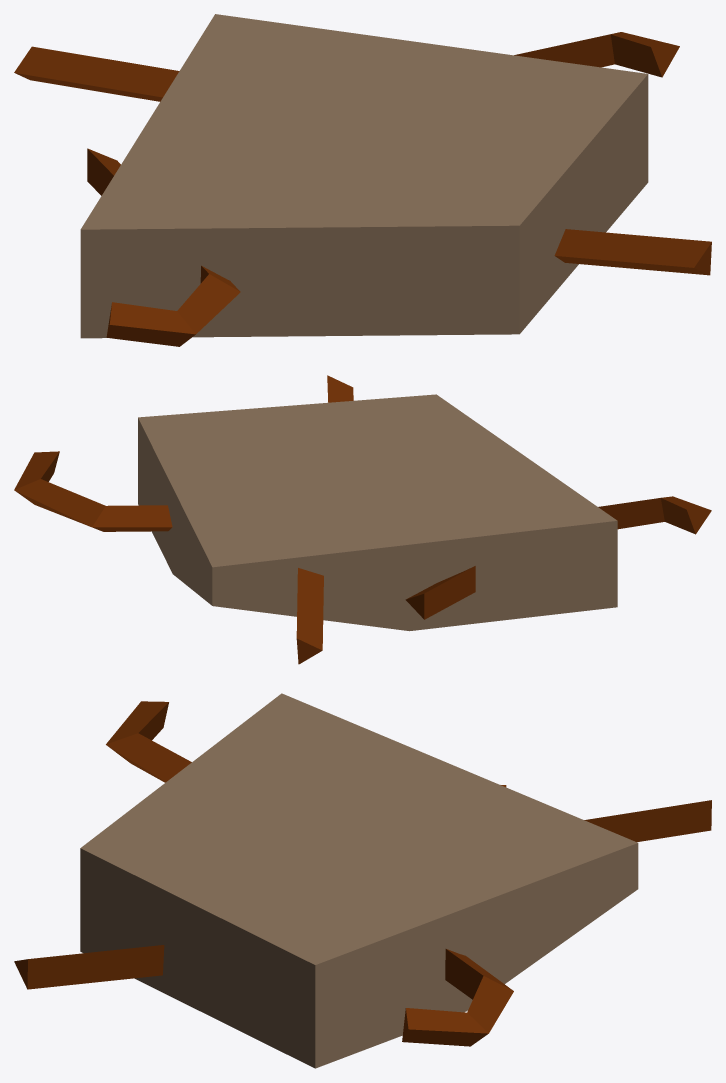
File: LP_PostApoc_Rubble2.fbx
3 views of the same model, one above another, from view 1: azimuth 30°, elevation 25°; view 2: azimuth 150°, elevation 25°; view 3: azimuth 270°, elevation 25° (orthographic). The views are drawn at different scales.
Parts seen in each view (by area): view 1: Rubble2; view 2: Rubble2; view 3: Rubble2.
Part boxes in pixels (x1,y1,x2,y2): Rubble2: (14, 14, 711, 346); Rubble2: (14, 375, 711, 664); Rubble2: (14, 693, 711, 1068).
Bounding box in the file's own units: 121 × 17.67 × 108.
